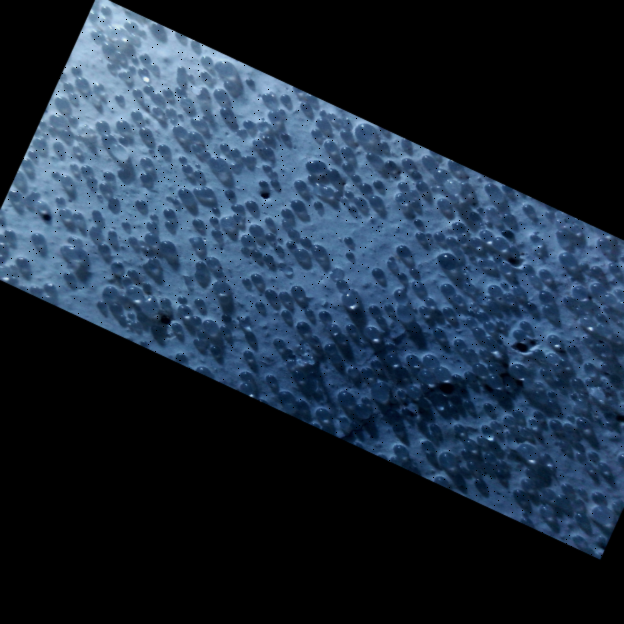GrassBeadSeg: (130, 54, 569, 503), (69, 114, 601, 471), (126, 19, 586, 431), (100, 4, 573, 384), (103, 41, 605, 389), (37, 153, 585, 460), (140, 58, 588, 427), (143, 83, 527, 499), (166, 106, 545, 496), (128, 70, 592, 386), (137, 27, 591, 341), (202, 93, 623, 427), (219, 141, 586, 521), (177, 126, 583, 458), (91, 208, 597, 460), (5, 228, 543, 461), (150, 62, 557, 361), (108, 229, 555, 498), (138, 66, 465, 432), (246, 122, 596, 457), (220, 106, 623, 396), (80, 163, 455, 465), (67, 146, 456, 429), (98, 211, 532, 453), (194, 171, 623, 413), (177, 64, 489, 394), (199, 86, 593, 344), (72, 210, 537, 426), (147, 220, 522, 485), (224, 78, 543, 375), (100, 8, 481, 246), (191, 314, 584, 544), (265, 231, 577, 519), (131, 109, 451, 380), (162, 87, 595, 274), (96, 202, 423, 447), (195, 259, 533, 487), (328, 178, 559, 501), (132, 242, 533, 425), (96, 115, 381, 366), (376, 178, 621, 462), (225, 86, 623, 259), (283, 133, 523, 416), (245, 143, 550, 356), (301, 255, 573, 492), (346, 167, 589, 425), (223, 147, 439, 432), (139, 126, 454, 315), (211, 232, 523, 419), (334, 331, 606, 541), (76, 75, 424, 239), (84, 172, 461, 320), (59, 202, 486, 328), (412, 199, 609, 470), (63, 270, 594, 370), (21, 264, 360, 414), (7, 187, 254, 392), (32, 69, 310, 247), (323, 138, 560, 343), (56, 115, 514, 221), (306, 173, 559, 363), (239, 194, 494, 377), (177, 186, 605, 293), (272, 119, 494, 325), (59, 207, 574, 295), (123, 87, 313, 316), (313, 168, 560, 343), (206, 122, 374, 375), (355, 180, 550, 396), (111, 160, 493, 270), (451, 220, 623, 464), (365, 190, 577, 385), (242, 246, 602, 358), (170, 99, 490, 225), (157, 127, 351, 331), (99, 181, 512, 271), (163, 145, 380, 314), (293, 284, 587, 408), (194, 217, 438, 366), (340, 129, 486, 373), (146, 222, 573, 303), (278, 307, 561, 429), (299, 100, 445, 333), (370, 357, 605, 501), (218, 212, 465, 348), (178, 154, 307, 409), (245, 77, 444, 240), (284, 94, 399, 363), (192, 218, 553, 301), (281, 308, 543, 418), (61, 127, 273, 262), (456, 233, 566, 493), (248, 128, 380, 338), (114, 92, 358, 205), (200, 185, 465, 289), (224, 191, 574, 265), (159, 139, 388, 250), (246, 190, 509, 284), (377, 292, 616, 395), (4, 145, 273, 236), (353, 402, 604, 499), (180, 95, 349, 239), (126, 267, 481, 335), (254, 304, 407, 456), (372, 178, 619, 272), (523, 258, 611, 520), (175, 109, 278, 332), (202, 230, 423, 331), (240, 233, 597, 293), (289, 350, 464, 471), (400, 156, 516, 338), (194, 263, 534, 325), (44, 61, 135, 291), (316, 117, 421, 313), (281, 207, 441, 335), (199, 263, 375, 377), (116, 118, 400, 188), (467, 284, 619, 410), (310, 333, 476, 448), (193, 195, 367, 304), (304, 209, 480, 314), (193, 224, 417, 306), (242, 369, 560, 426), (241, 229, 570, 284), (285, 159, 396, 319), (370, 266, 527, 378), (163, 161, 353, 252), (127, 255, 529, 297), (250, 271, 428, 365), (452, 294, 551, 463), (244, 199, 320, 418), (248, 224, 330, 418), (224, 187, 398, 277), (180, 243, 378, 322), (163, 120, 320, 217), (484, 182, 555, 396), (345, 322, 449, 466), (507, 218, 594, 384), (148, 112, 324, 194), (485, 220, 621, 325), (326, 177, 417, 332), (209, 142, 382, 223), (532, 236, 609, 417), (127, 64, 178, 329), (249, 83, 372, 191), (210, 93, 286, 266), (279, 290, 526, 340), (8, 122, 88, 268), (423, 153, 476, 373), (493, 264, 601, 371), (306, 165, 406, 280), (379, 315, 466, 447), (305, 158, 378, 313), (275, 249, 392, 345), (289, 198, 413, 288), (221, 312, 483, 353), (264, 287, 354, 404), (294, 178, 341, 402), (313, 181, 504, 236), (175, 85, 279, 186), (43, 72, 207, 136), (55, 195, 499, 217), (500, 227, 605, 319), (140, 171, 292, 234), (143, 231, 277, 300), (478, 257, 604, 330), (295, 377, 436, 440), (547, 287, 623, 403), (122, 69, 272, 127), (264, 163, 404, 225), (401, 305, 524, 375), (164, 247, 308, 306), (392, 256, 476, 357), (400, 243, 550, 299), (196, 199, 322, 264), (109, 123, 181, 235), (160, 296, 488, 320), (483, 303, 556, 408), (556, 378, 615, 506), (338, 180, 408, 287), (211, 193, 381, 237), (277, 107, 349, 210), (140, 201, 223, 290), (16, 189, 112, 265), (488, 294, 566, 387), (178, 154, 226, 300), (427, 334, 494, 437), (182, 91, 268, 171), (335, 262, 610, 287), (332, 136, 462, 188), (394, 197, 450, 317), (472, 326, 582, 387), (150, 193, 407, 219), (142, 57, 203, 166), (406, 287, 492, 364), (242, 118, 298, 236), (433, 283, 502, 378), (408, 167, 476, 261), (420, 438, 527, 497), (533, 380, 586, 496), (455, 232, 539, 304), (350, 425, 444, 484), (90, 214, 282, 240), (183, 197, 533, 211), (434, 474, 552, 515), (267, 164, 401, 200), (478, 227, 536, 309), (282, 235, 352, 301), (250, 222, 399, 253), (74, 21, 161, 73), (311, 174, 336, 351), (236, 314, 311, 373), (161, 87, 227, 153), (76, 209, 553, 218), (472, 244, 515, 342), (525, 467, 622, 509), (500, 280, 594, 322), (517, 334, 549, 457), (74, 9, 98, 171), (171, 196, 241, 251), (66, 135, 120, 205), (128, 67, 149, 242), (270, 150, 378, 184), (273, 336, 408, 363), (459, 470, 526, 521), (339, 392, 449, 423), (445, 288, 530, 327), (531, 350, 576, 421), (30, 188, 101, 233), (405, 198, 420, 396), (108, 60, 161, 113), (194, 146, 262, 186), (143, 316, 236, 345), (141, 244, 221, 277), (32, 287, 119, 317), (13, 267, 148, 286), (166, 109, 202, 177), (67, 16, 95, 98), (472, 413, 512, 470), (0, 232, 37, 290), (28, 149, 91, 183), (69, 134, 126, 169), (578, 261, 623, 305), (266, 116, 338, 143), (423, 251, 457, 303), (474, 422, 501, 486), (290, 276, 376, 296), (32, 136, 68, 183), (242, 218, 289, 254), (564, 439, 595, 493), (40, 116, 202, 126), (35, 132, 59, 198), (22, 145, 105, 164), (428, 196, 442, 306), (189, 78, 202, 194), (445, 235, 500, 262), (143, 128, 286, 138), (153, 197, 173, 266), (251, 224, 295, 255), (136, 312, 249, 324), (326, 166, 356, 211), (347, 365, 389, 397), (241, 368, 303, 389), (421, 156, 429, 315), (181, 129, 200, 195), (139, 52, 150, 164), (152, 72, 193, 101), (56, 135, 122, 153), (54, 81, 97, 107), (533, 217, 564, 253), (461, 370, 474, 454), (363, 390, 400, 419), (413, 256, 443, 291), (558, 221, 580, 268), (213, 267, 229, 331), (255, 91, 273, 147), (121, 179, 141, 229), (436, 281, 453, 338), (103, 123, 120, 178), (242, 153, 267, 189), (70, 64, 103, 91), (465, 264, 482, 316), (390, 167, 428, 190), (196, 324, 254, 339), (196, 323, 224, 354), (107, 300, 140, 326), (484, 360, 500, 410), (0, 240, 18, 284), (360, 395, 446, 404), (135, 198, 152, 243), (466, 459, 506, 478), (139, 282, 151, 344), (190, 115, 264, 125), (523, 429, 564, 447), (466, 398, 483, 441), (111, 292, 138, 319), (397, 388, 457, 400), (446, 159, 470, 189), (410, 168, 422, 227), (526, 466, 541, 513), (112, 167, 130, 206), (462, 398, 472, 457), (549, 390, 585, 406), (532, 347, 565, 364), (102, 15, 113, 66), (106, 23, 157, 33), (54, 80, 74, 105), (39, 118, 84, 129), (450, 372, 461, 412), (479, 456, 493, 487), (60, 172, 95, 184), (463, 280, 501, 291), (553, 358, 569, 384), (247, 137, 262, 164), (598, 303, 613, 329), (318, 108, 342, 124), (477, 310, 496, 330), (528, 249, 538, 282), (338, 414, 359, 429), (270, 122, 276, 174), (200, 54, 213, 77), (287, 346, 304, 363), (510, 425, 530, 439), (483, 450, 499, 467), (250, 248, 272, 260), (117, 312, 134, 327), (37, 140, 64, 149), (446, 394, 461, 410), (193, 328, 206, 346), (259, 92, 266, 123), (495, 458, 506, 476), (453, 369, 468, 382), (30, 231, 44, 244), (483, 419, 497, 432), (189, 235, 204, 247), (505, 417, 514, 437), (285, 346, 295, 364), (190, 133, 201, 148), (479, 423, 487, 443), (296, 320, 310, 331), (101, 132, 113, 144), (539, 365, 550, 377), (321, 111, 334, 120), (255, 300, 265, 310), (309, 354, 314, 374), (351, 172, 361, 181), (521, 516, 530, 524), (597, 534, 604, 542)
